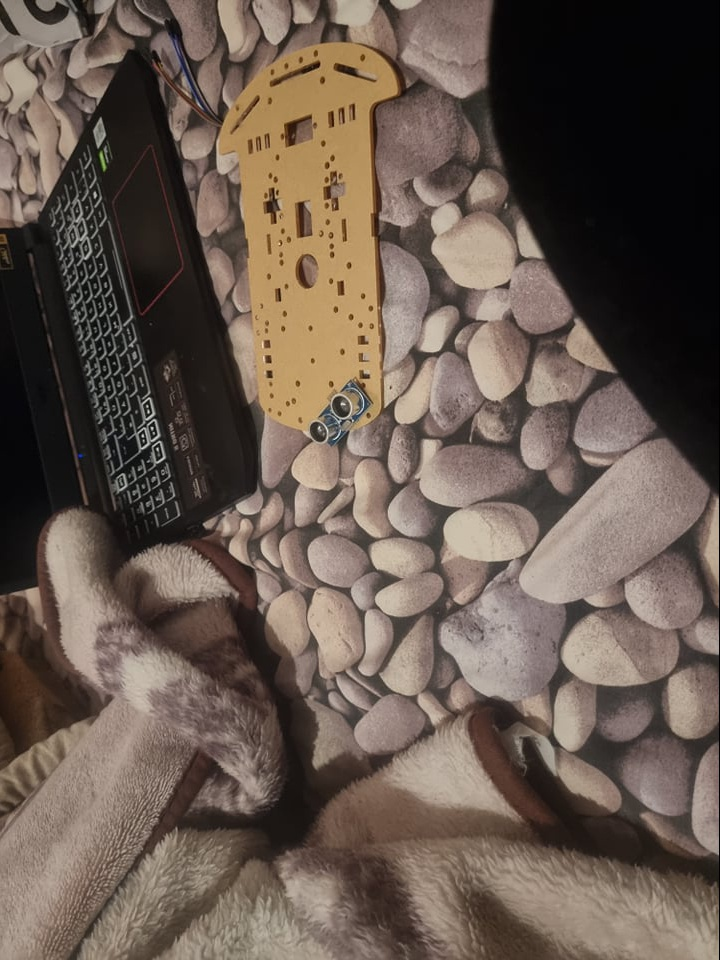SENSOR: (308, 381, 370, 445)
